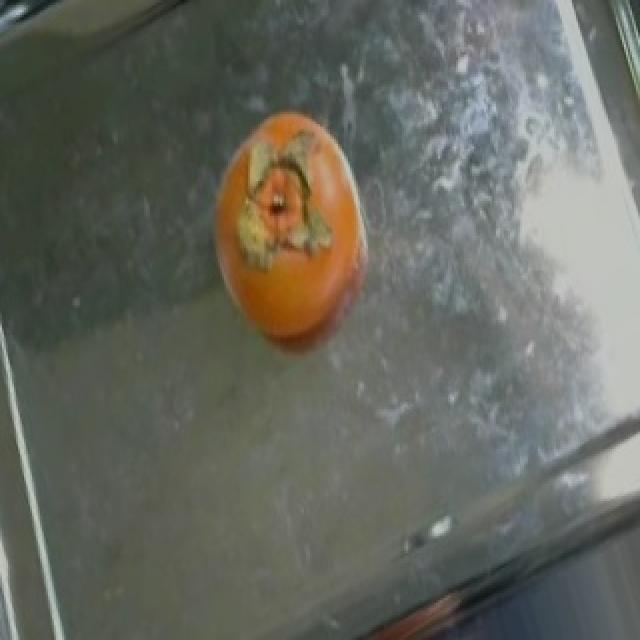Fruit: (188, 89, 396, 377), (0, 0, 230, 64)
